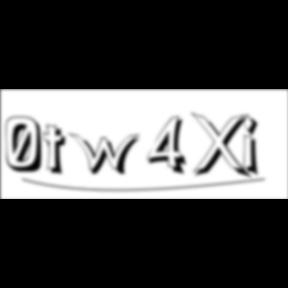0: (6, 115, 50, 174)
4: (146, 115, 194, 179)
X: (191, 112, 255, 182)
i: (242, 112, 266, 180)
t: (42, 124, 74, 179)
w: (69, 132, 147, 178)
